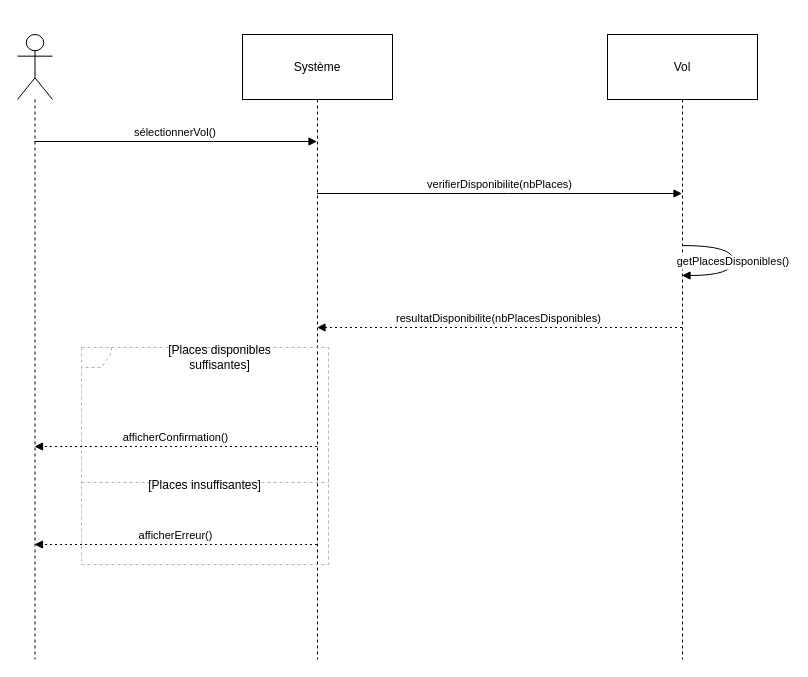
The diagram is 808 pixels wide and 677 high, and some of its shapes have lost their labels. Each missing label, with the box of its shape:
alt: (80, 346, 328, 564)
Client: (16, 34, 52, 660)
